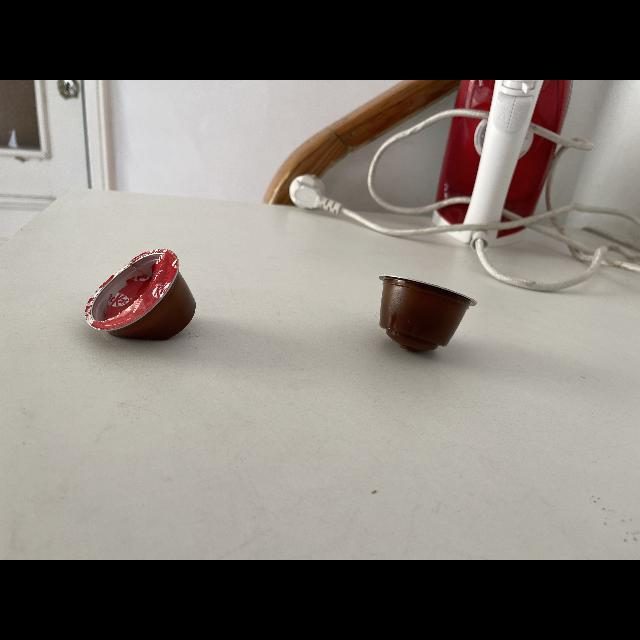damaged_capsule: (78, 250, 200, 350)
intact_capsule: (373, 271, 485, 365)
